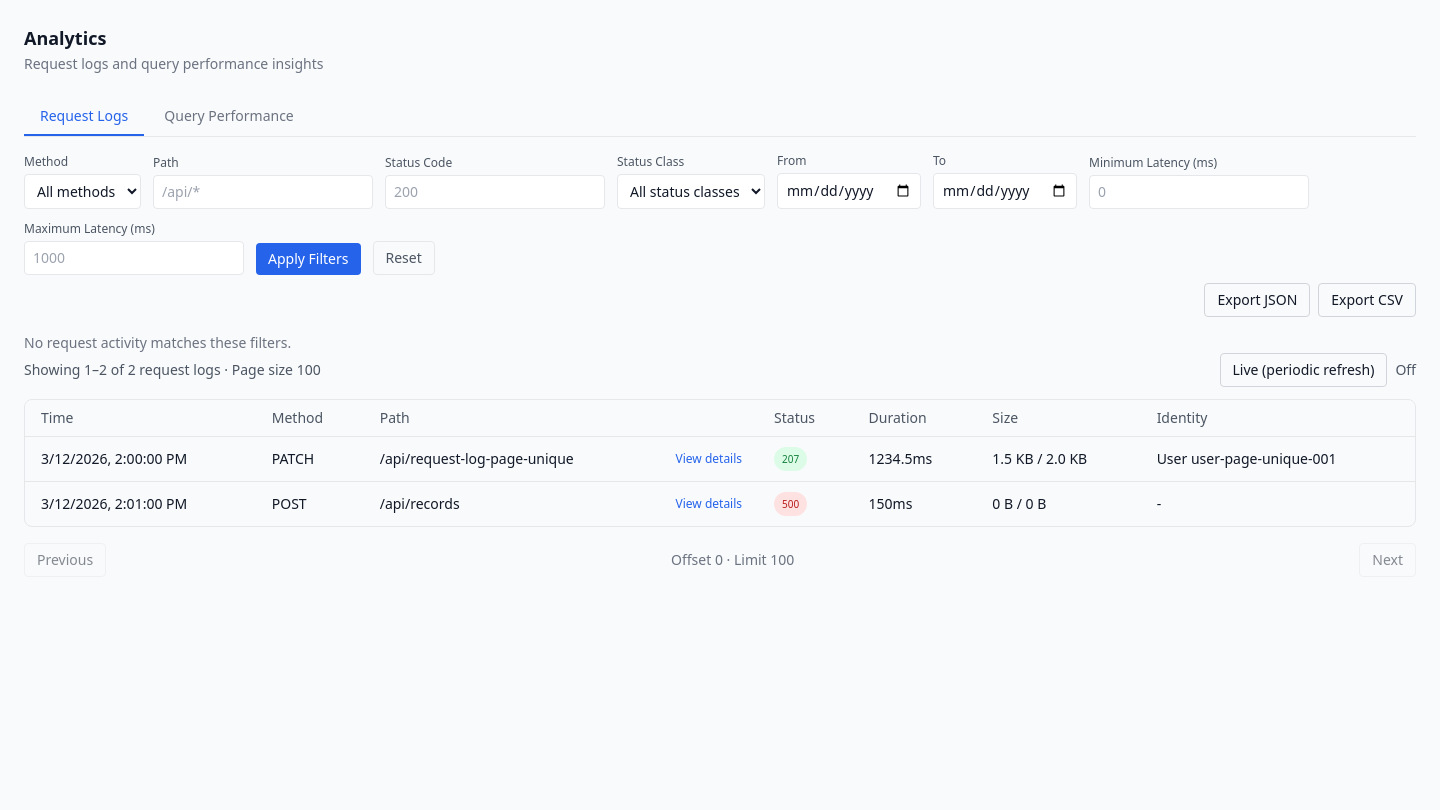
Test: Analytics › rejects invalid latency filters: Minimum latency must be less than or equal to maximum latency
Type "20" into the number field labelled "Minimum Latency (ms)" at (1199, 192), box [1089,175,1309,209]
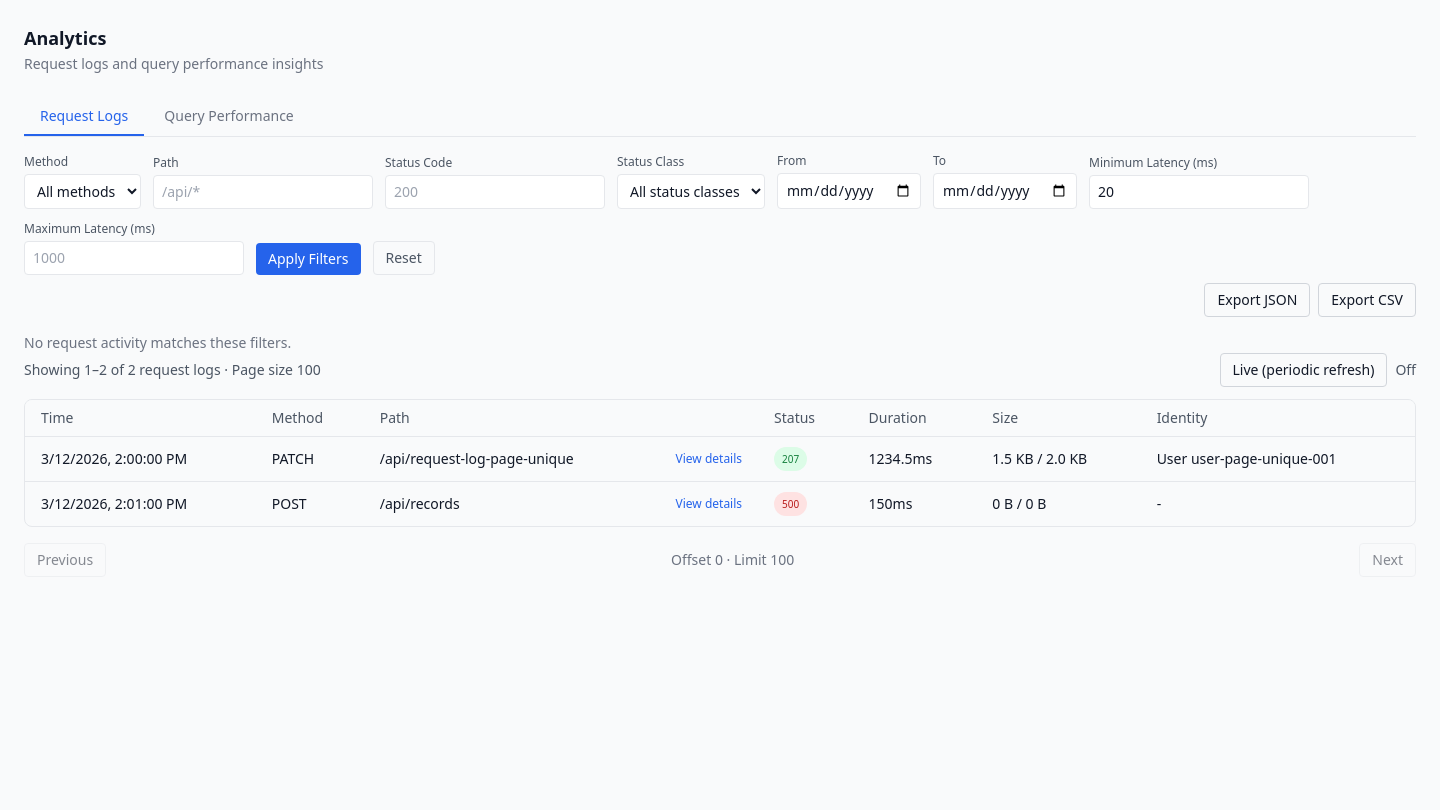
Type "10" into the number field labelled "Maximum Latency (ms)" at (134, 258), box [24,241,244,275]
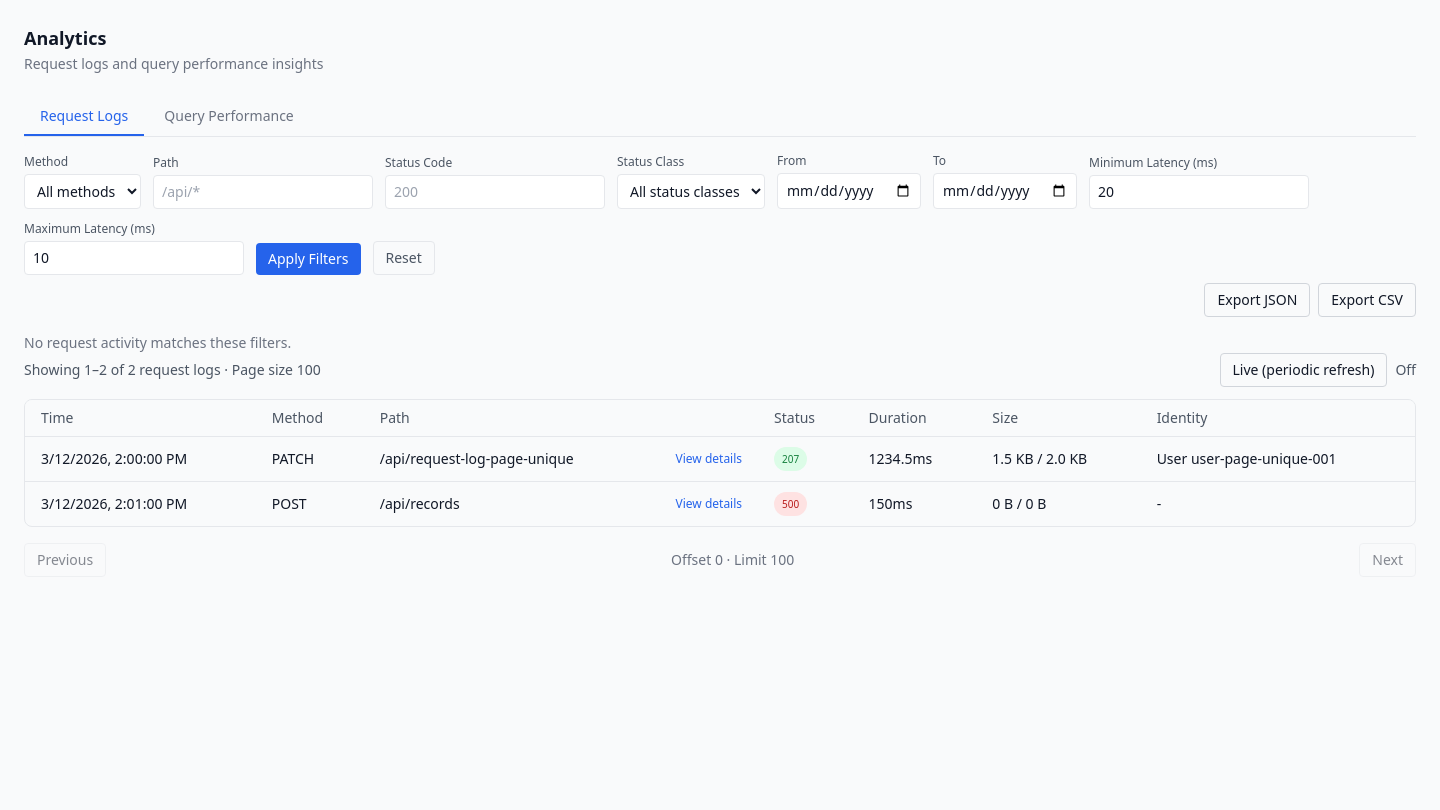
Click the button "Apply Filters" at (308, 259), box [256,243,360,275]
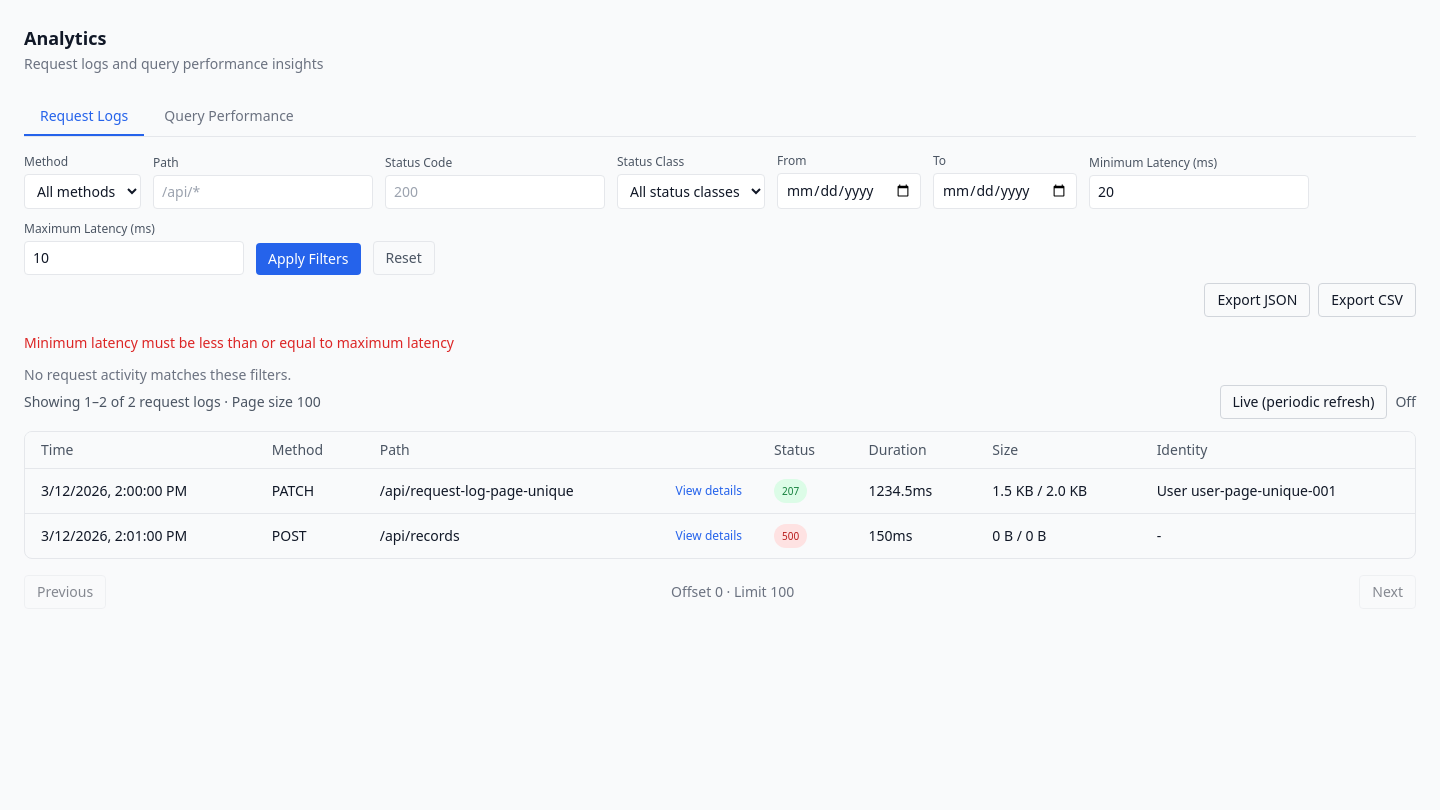
Result: the message "Minimum latency must be less than or equal to maximum latency" is shown at [24,333,454,352]
